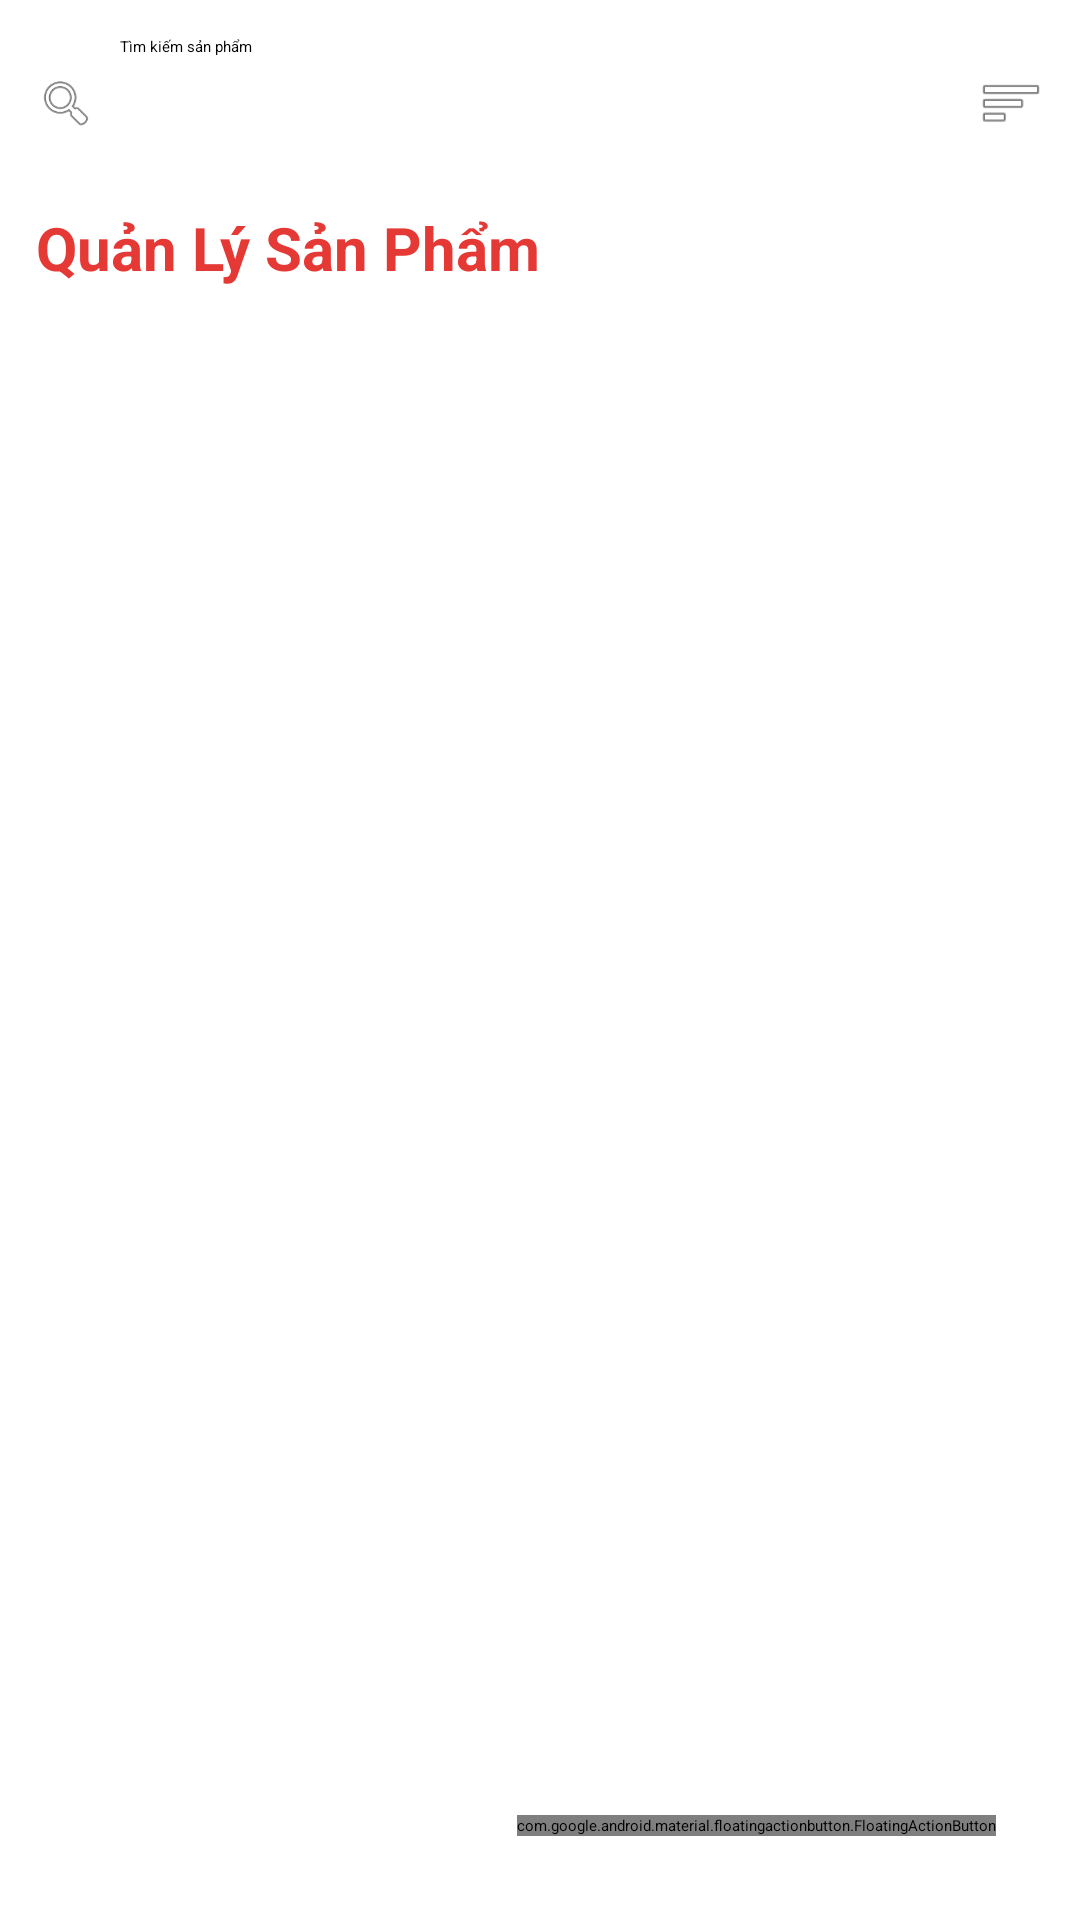

Icons on this 1080x1920 Android screen, each with its box as (x1,y1,x2,y2):
search: (44,81,88,126)
sort by size: (982,85,1040,122)
